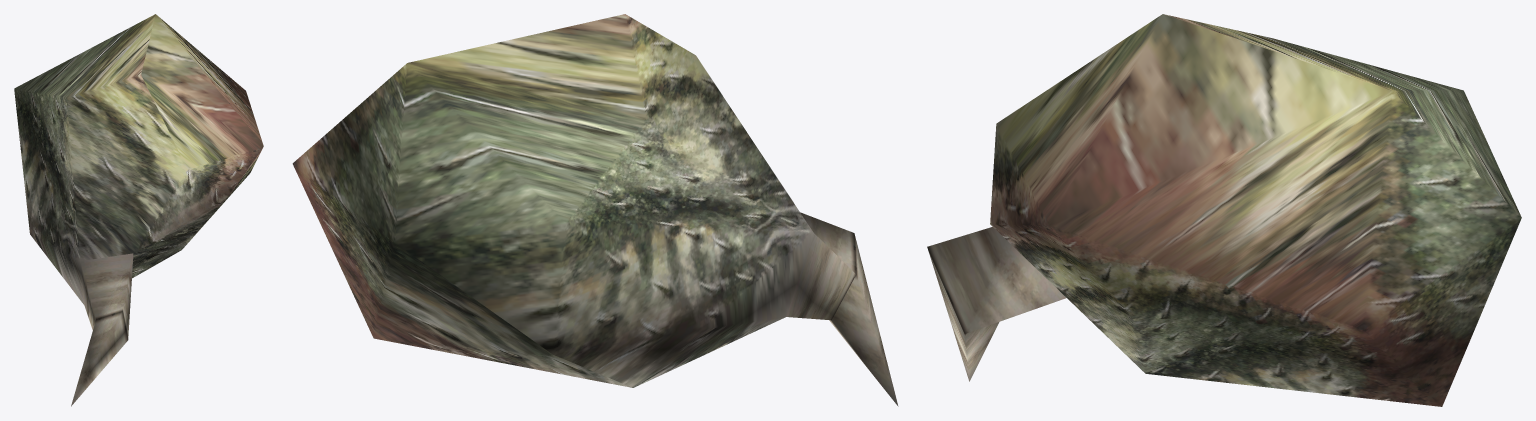
Rendered from succ_lok_hairmay_cactus_a3_l2.fbx.
3 renders of one model, left to right at view 1: azimuth 30°, elevation 25°; view 2: azimuth 150°, elevation 25°; view 3: azimuth 270°, elevation 25°, orthographic. The views are drawn at different scales.
Visible parts, largest first — view 1: mesh_node; view 2: mesh_node; view 3: mesh_node.
Part boxes in pixels (left/top/right/bottom): mesh_node: left=14, top=14, right=263, bottom=406; mesh_node: left=292, top=14, right=898, bottom=406; mesh_node: left=927, top=14, right=1521, bottom=406.
Size of the model in its own units: 1.55 by 1.37 by 1.55.
1 material, 1 textured.
